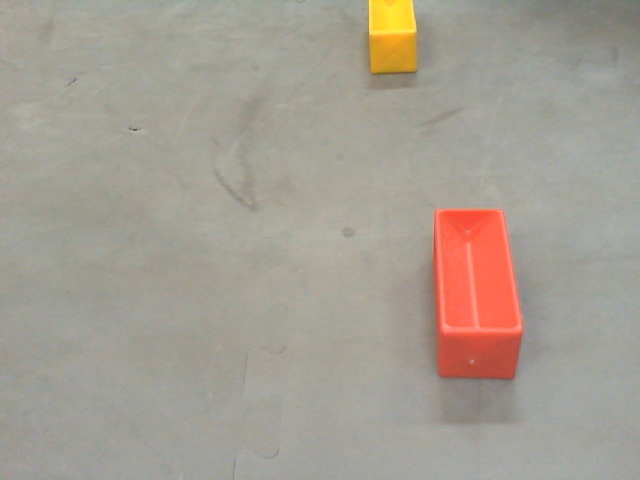RedSample: (431, 208, 526, 382)
YellowSample: (366, 1, 417, 77)
